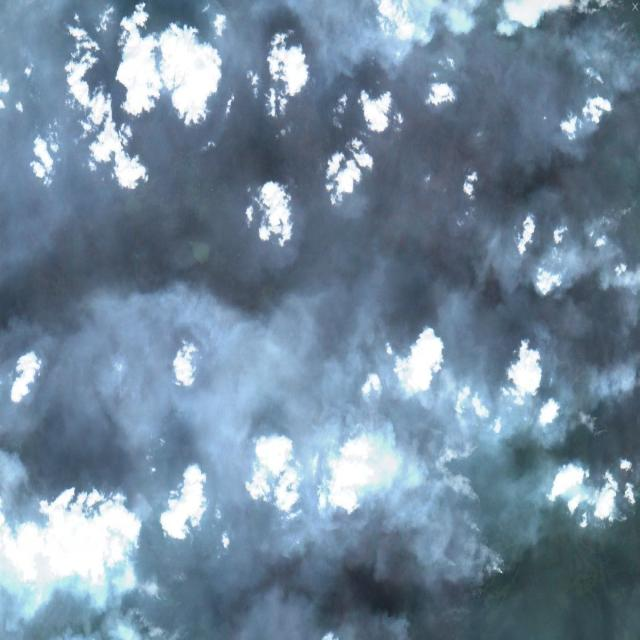fire: (1, 522, 204, 640), (428, 367, 515, 640), (541, 0, 640, 80), (584, 411, 640, 543)
